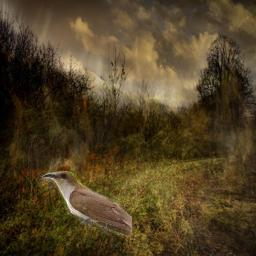Cuckoo: (40, 171, 132, 238)
